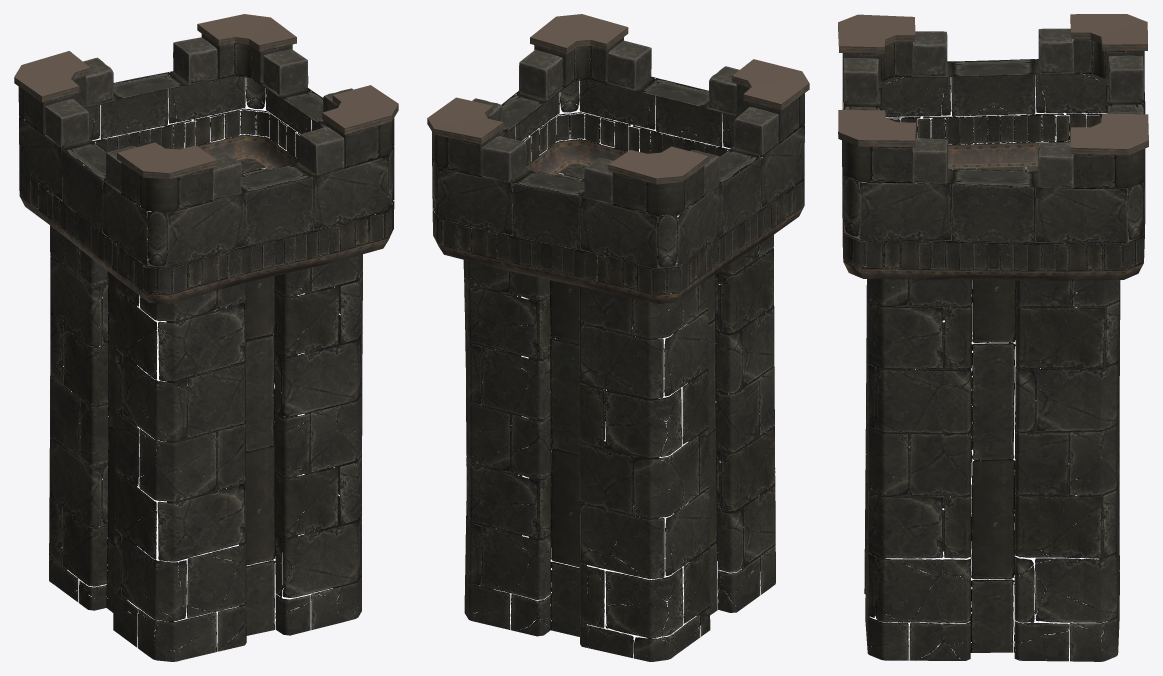
3 views of the same model, side by side, from view 1: azimuth 30°, elevation 25°; view 2: azimuth 150°, elevation 25°; view 3: azimuth 270°, elevation 25° (orthographic). The views are drawn at different scales.
Parts seen in each view (by area): view 1: SM_DR_Gateway_Top_Tower_02_LOD0; view 2: SM_DR_Gateway_Top_Tower_02_LOD0; view 3: SM_DR_Gateway_Top_Tower_02_LOD0.
Part boxes in pixels (x1,y1,x2,y2): SM_DR_Gateway_Top_Tower_02_LOD0: (14, 14, 398, 661); SM_DR_Gateway_Top_Tower_02_LOD0: (427, 14, 809, 661); SM_DR_Gateway_Top_Tower_02_LOD0: (838, 14, 1148, 661).
Bounding box in the file's own units: 5.97 × 11.32 × 5.97.
4 materials, 4 textured.
